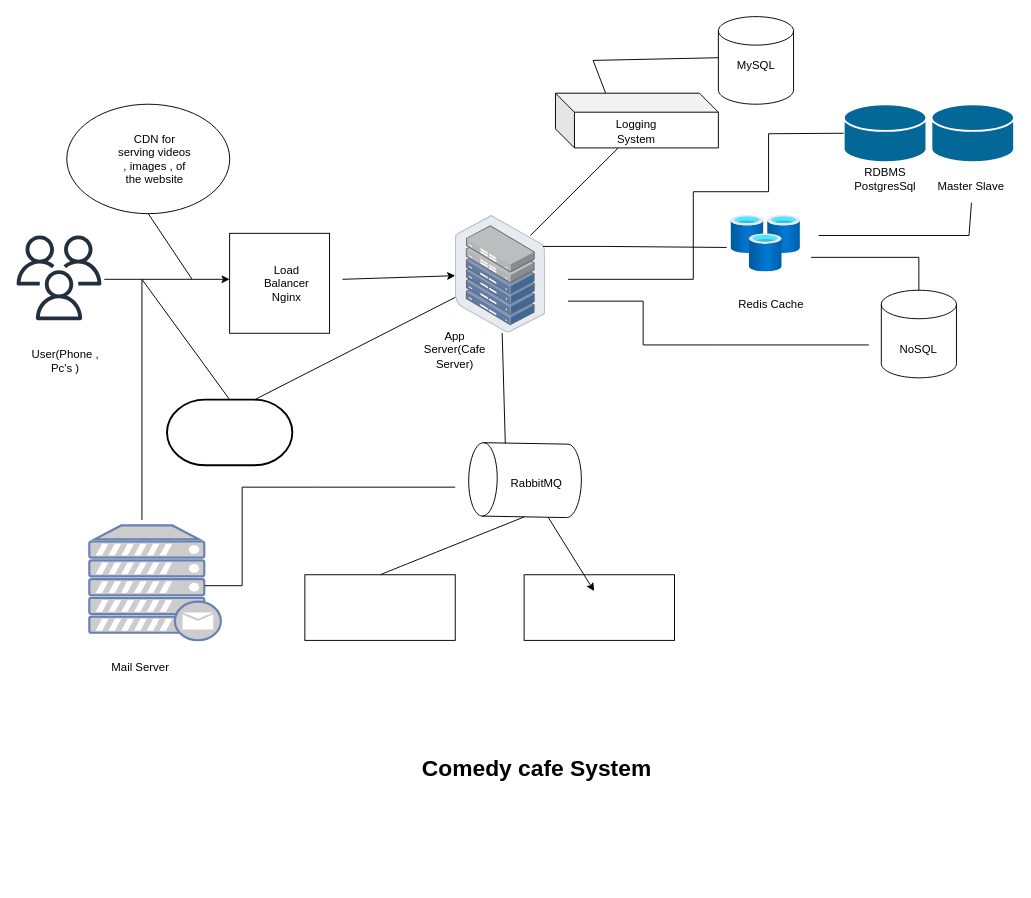
Image size: 1031x898. Some labels were removed from this diagram. The shapes that lost their labels are listed below. From the top down, each one's box as (x1, y1, x2, y2) in pixels, then its label:
(166, 398, 293, 466): GCN APN Notification Channel
(304, 574, 455, 640): Workers for Email(Celery worker)
(523, 574, 674, 640): Workers for WhatsApp , SMS
